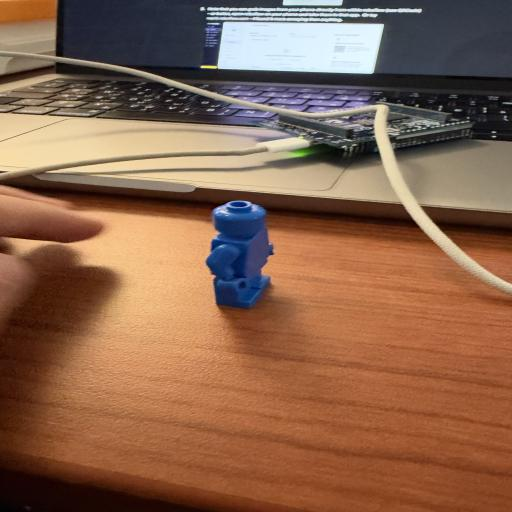Minifig: (204, 201, 274, 310)
